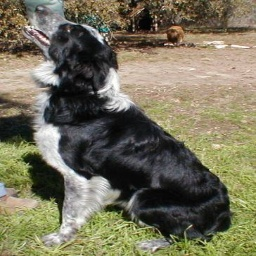dog: (18, 3, 235, 256)
